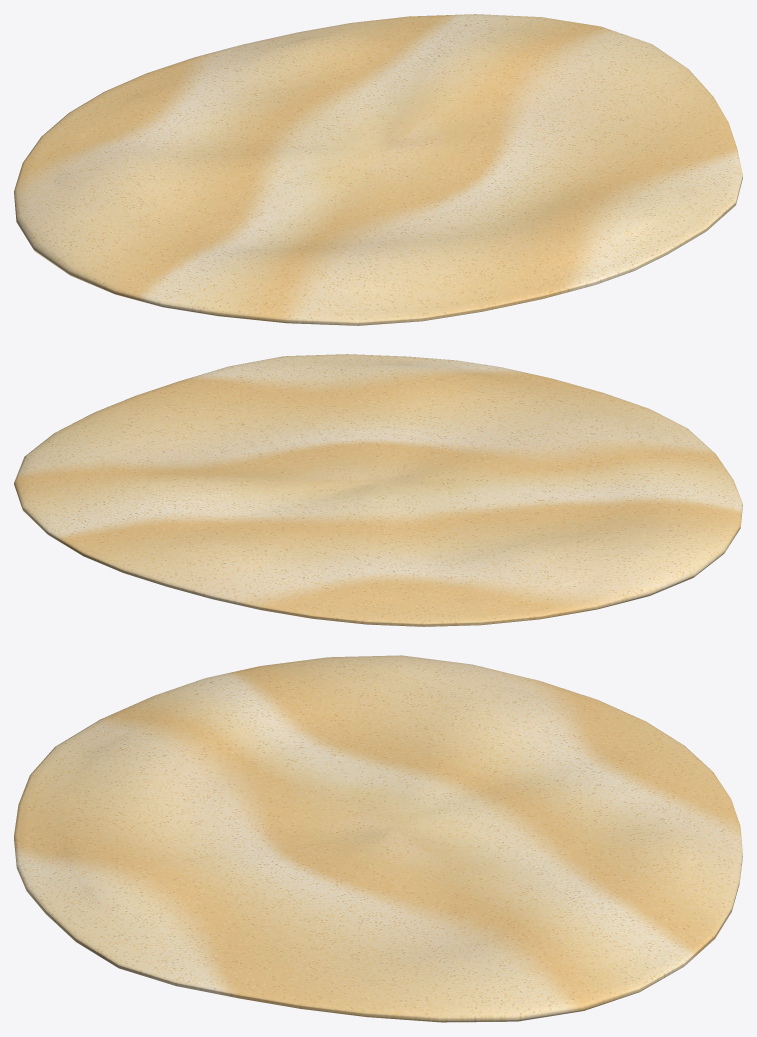
File: ostrvo2.fbx
3 renders of one model, top to bottom at view 1: azimuth 30°, elevation 25°; view 2: azimuth 150°, elevation 25°; view 3: azimuth 270°, elevation 25°, orthographic. The views are drawn at different scales.
Visible parts, largest first — view 1: Cylinder002; view 2: Cylinder002; view 3: Cylinder002.
Boxes of the visible parts, x1=… form: Cylinder002: x1=14, y1=14, x2=742, y2=325; Cylinder002: x1=14, y1=354, x2=742, y2=626; Cylinder002: x1=14, y1=655, x2=742, y2=1022.
Bounding box in the file's own units: 298 × 254 × 14.86.
1 material, 1 textured.
